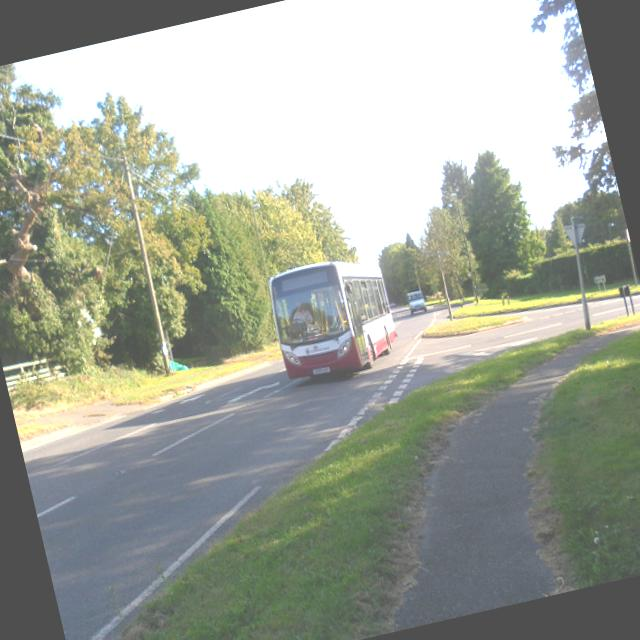Vehicle: (262, 248, 404, 388), (406, 290, 427, 316), (406, 289, 426, 315), (388, 300, 396, 308)
